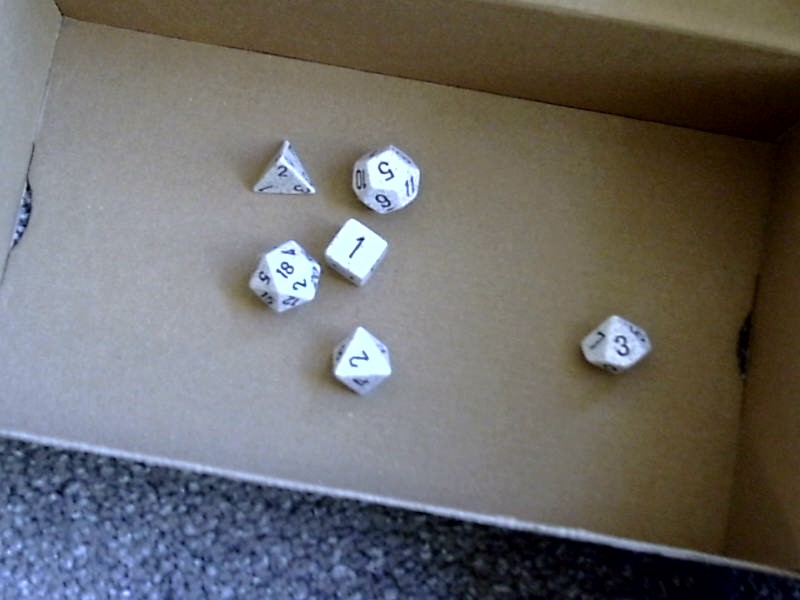d10 3: (575, 306, 655, 378)
d12 5: (347, 143, 423, 214)
d20 18: (249, 241, 321, 313)
d4 2: (252, 128, 316, 197)
d6 1: (324, 216, 387, 286)
d8 2: (326, 324, 392, 396)
